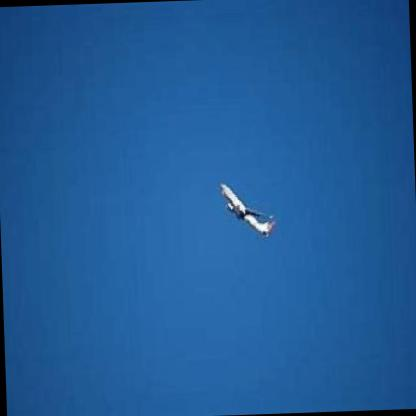plane: (199, 180, 283, 245)
